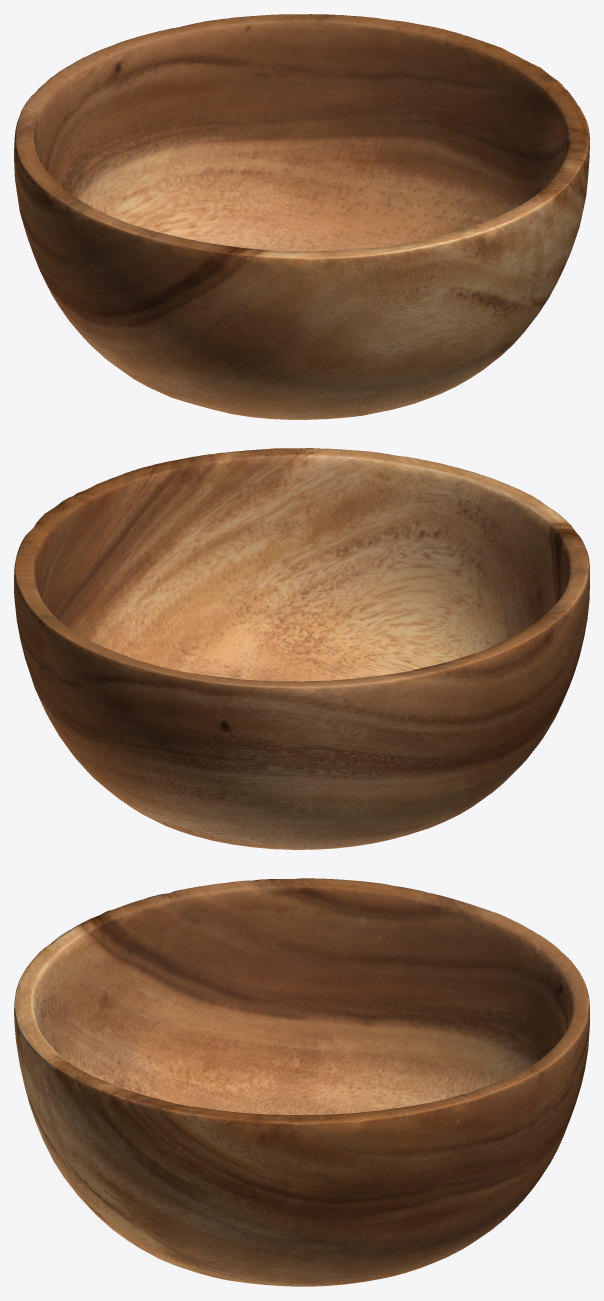
The model's file is SM_Wood_Bowl_A.fbx.
3 renders of one model, top to bottom at view 1: azimuth 30°, elevation 25°; view 2: azimuth 150°, elevation 25°; view 3: azimuth 270°, elevation 25°, orthographic.
Visible parts, largest first — view 1: SM_Wood_Bowl_A_LOD0; view 2: SM_Wood_Bowl_A_LOD0; view 3: SM_Wood_Bowl_A_LOD0.
Part boxes in pixels (<box>): SM_Wood_Bowl_A_LOD0: <box>14,14,589,419</box>; SM_Wood_Bowl_A_LOD0: <box>14,448,589,849</box>; SM_Wood_Bowl_A_LOD0: <box>14,878,589,1286</box>.
Size of the model in its own units: 24.87 by 24.77 by 10.01.
Materials: 1 (1 with a texture image).
